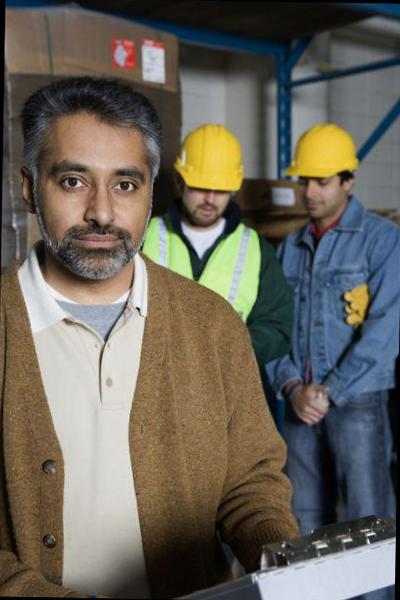no_helmet: (15, 76, 167, 288)
